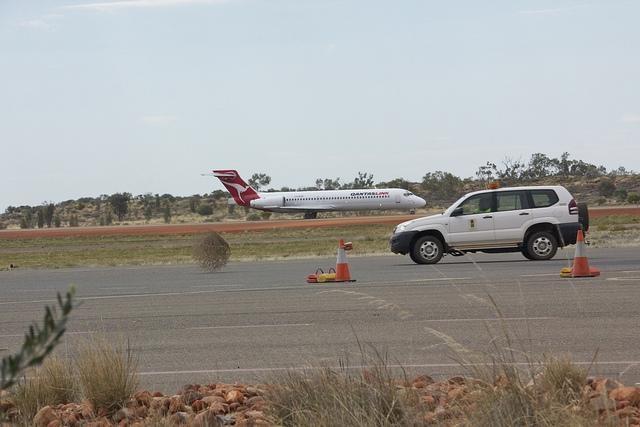car: (390, 184, 588, 266)
truck: (392, 180, 580, 267)
